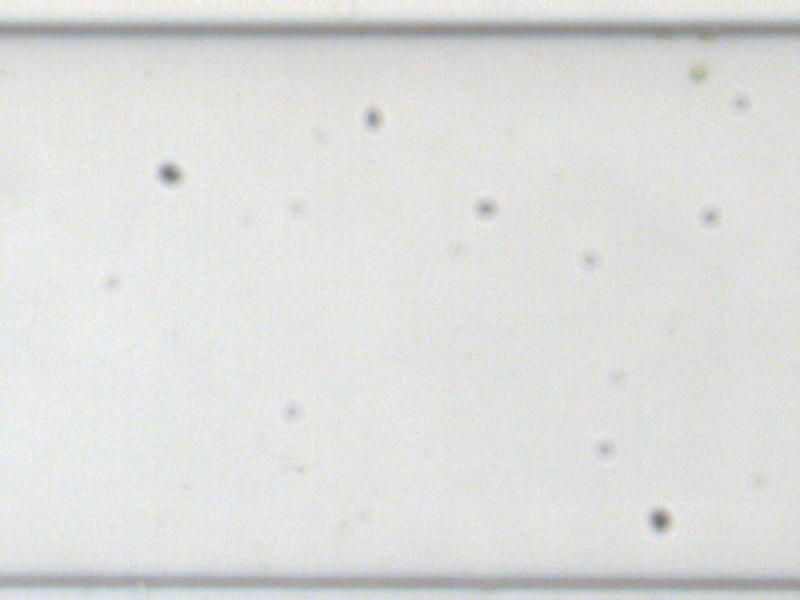Chlorella: (687, 62, 706, 81)
